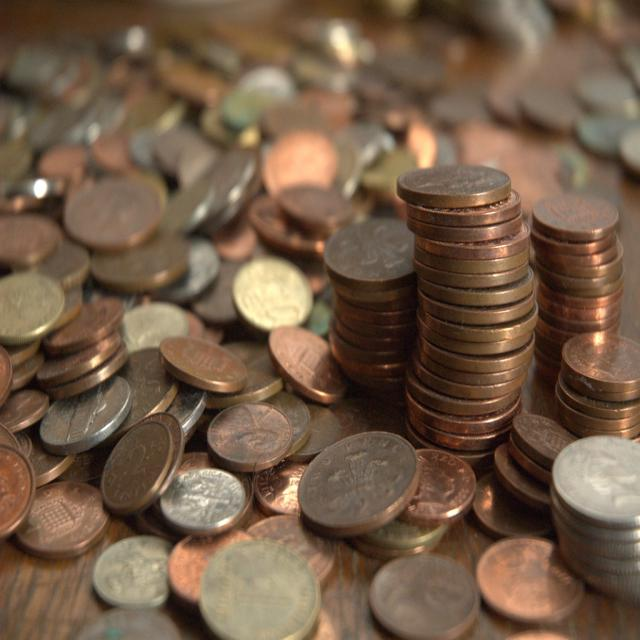Coin: (0, 0, 640, 639), (296, 430, 421, 543)
